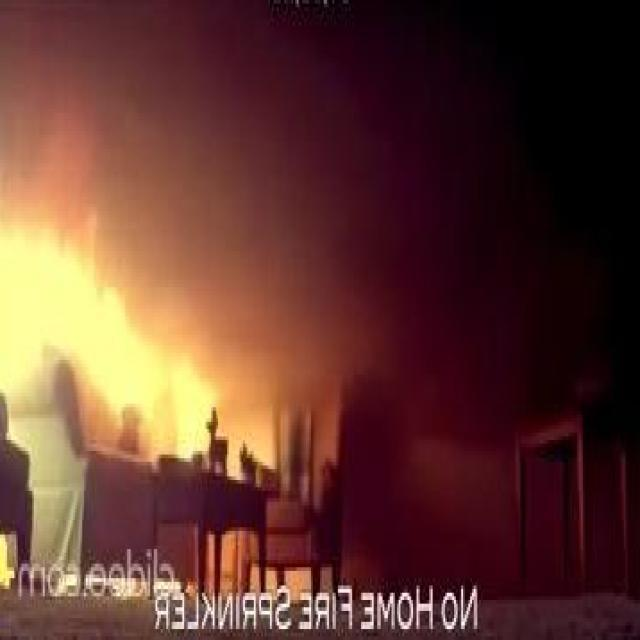smoke: (0, 222, 209, 444)
